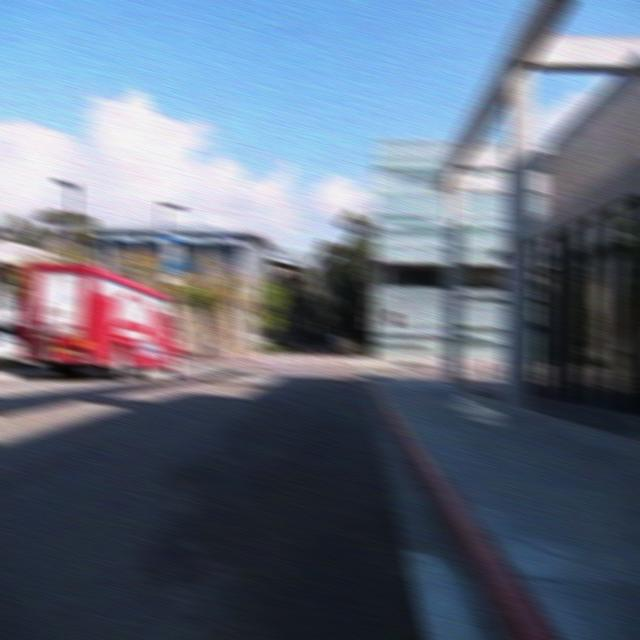stop_sign: (384, 309, 401, 326)
